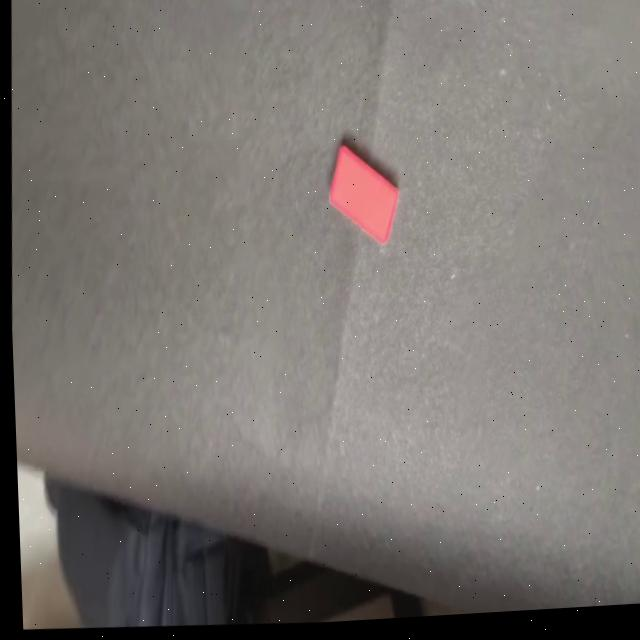red block: (323, 137, 403, 247)
